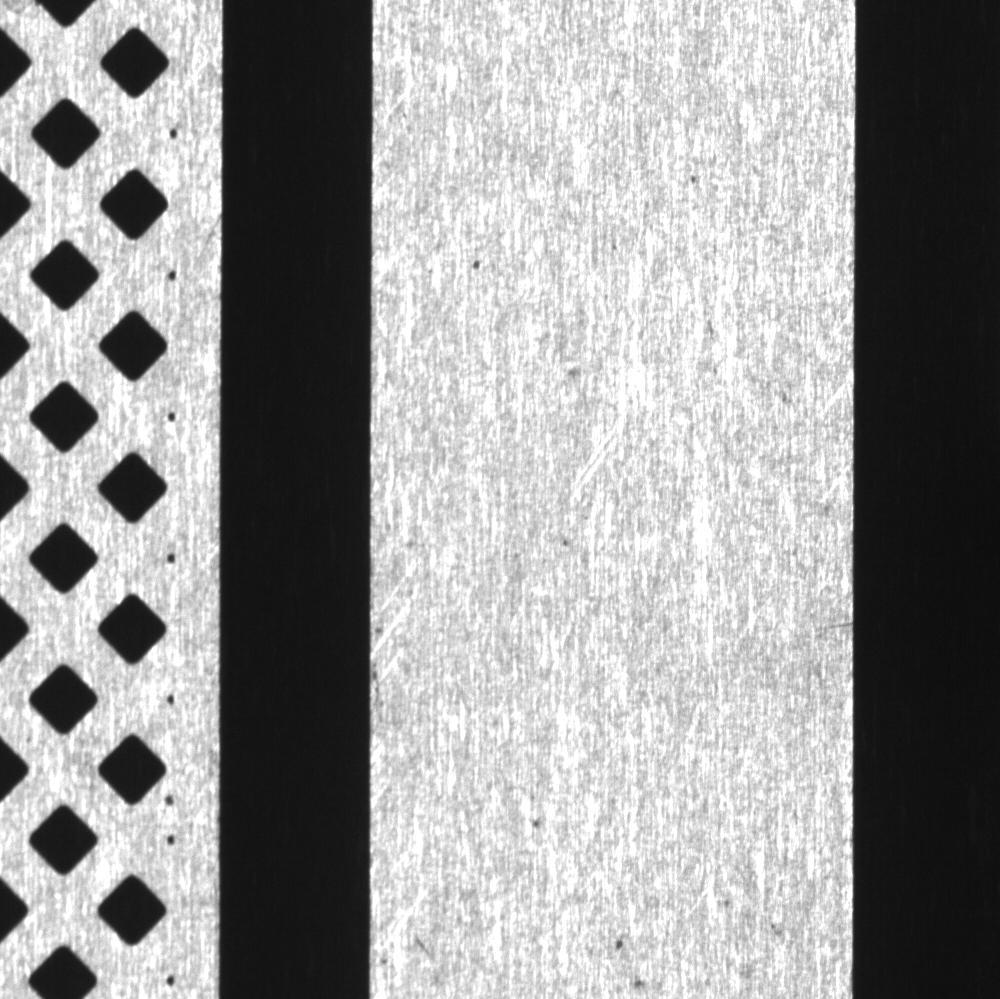Etching: (601, 930, 653, 996), (681, 160, 709, 197)
Pinhole: (452, 233, 506, 286), (526, 807, 547, 838)
Scar: (554, 402, 652, 504), (374, 549, 422, 708), (372, 889, 448, 989), (808, 608, 853, 644)
